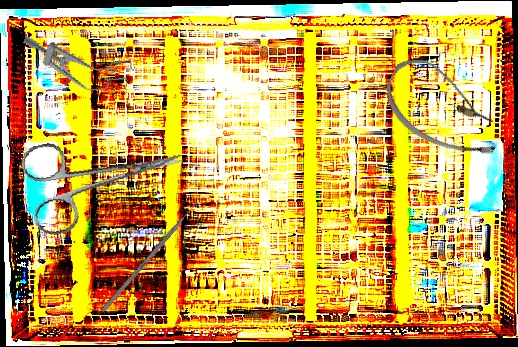Cannula: (372, 49, 517, 170)
Iris Scissors: (18, 116, 194, 239)
Pusher: (100, 194, 205, 313)
Speculum: (15, 27, 137, 102)
